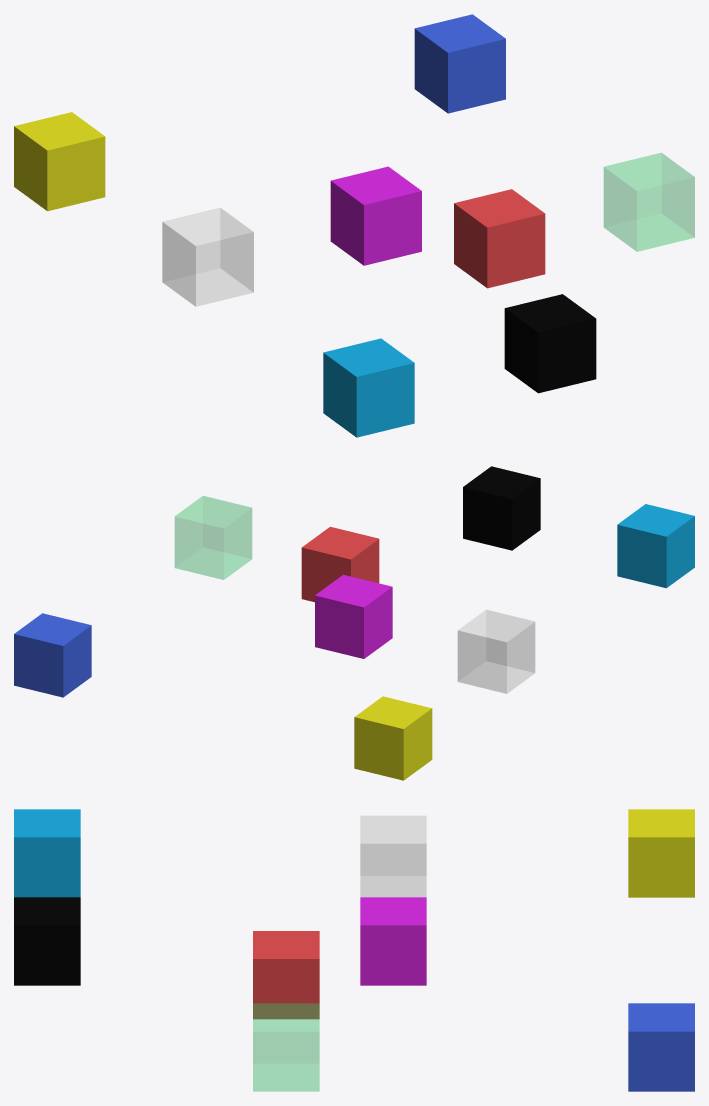
File: cubos.glb
The picture shows the model from 3 angles, top to bottom: view 1: azimuth 30°, elevation 25°; view 2: azimuth 150°, elevation 25°; view 3: azimuth 270°, elevation 25°; orthographic projection. The views are drawn at different scales.
Parts seen in each view (by area): view 1: Cube.005, Cube, Cube.002, Cube.004, Cube.006, Cube.007, Cube.003, Cube.001; view 2: Cube.003, Cube.007, Cube.002, Cube.004, Cube.005, Cube.006, Cube.001, Cube; view 3: Cube.001, Cube.002, Cube.003, Cube.004, Cube.005, Cube.006, Cube, Cube.007.
Boxes of the visible parts, box(x1,y1,x2,y2) form: Cube.005: box(504, 294, 596, 393); Cube: box(454, 189, 545, 288); Cube.002: box(414, 14, 505, 113); Cube.004: box(323, 338, 414, 437); Cube.006: box(330, 166, 421, 265); Cube.007: box(162, 207, 253, 306); Cube.003: box(14, 112, 105, 211); Cube.001: box(604, 153, 694, 251); Cube.003: box(354, 696, 432, 780); Cube.007: box(457, 609, 535, 693); Cube.002: box(14, 613, 91, 697); Cube.004: box(617, 504, 694, 588); Cube.005: box(463, 466, 540, 550); Cube.006: box(315, 574, 392, 658); Cube.001: box(175, 496, 251, 579); Cube: box(301, 526, 379, 602); Cube.001: box(253, 1003, 319, 1091); Cube.002: box(628, 1003, 694, 1091); Cube.003: box(628, 809, 694, 897); Cube.004: box(14, 809, 80, 897); Cube.005: box(14, 897, 80, 985); Cube.006: box(360, 897, 426, 985); Cube: box(253, 931, 319, 1019); Cube.007: box(360, 815, 426, 897).
Bounding box in the file's own units: 15.81 × 2 × 20.47.
